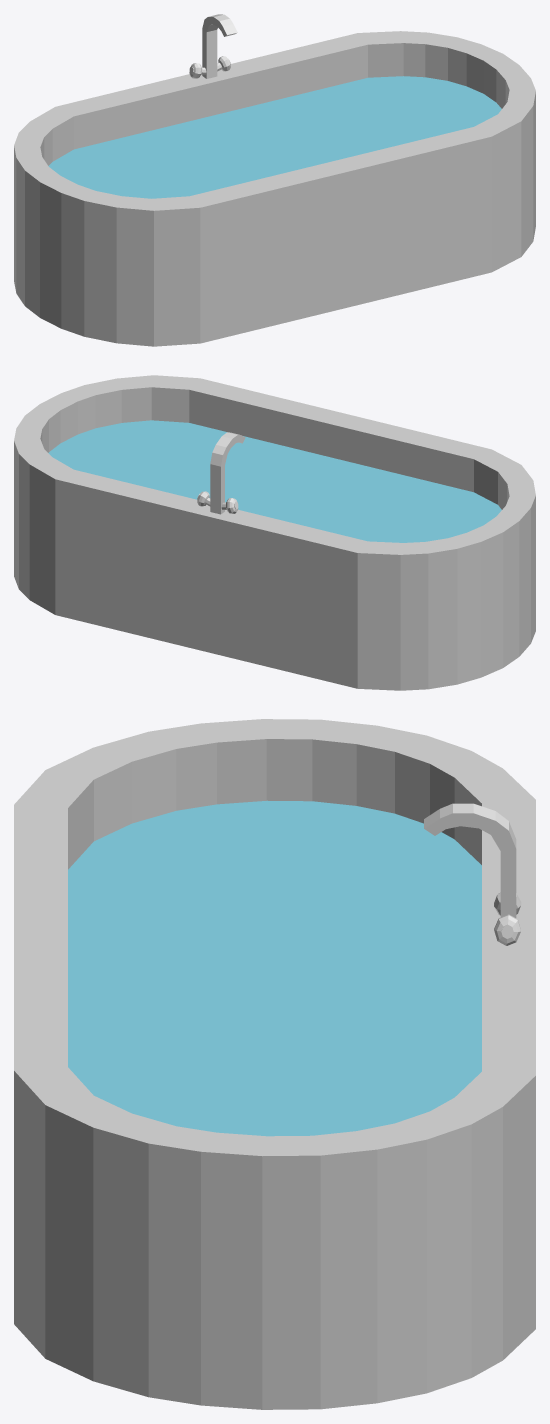
File: Baignoire1.fbx
The picture shows the model from 3 angles, top to bottom: view 1: azimuth 30°, elevation 25°; view 2: azimuth 150°, elevation 25°; view 3: azimuth 270°, elevation 25°; orthographic projection. The views are drawn at different scales.
Parts seen in each view (by area): view 1: Plane; view 2: Plane; view 3: Plane.
Part boxes in pixels (<box>): Plane: <box>14,14,535,346</box>; Plane: <box>14,375,535,690</box>; Plane: <box>14,719,535,1409</box>.
Bounding box in the file's own units: 704 × 285 × 355.
